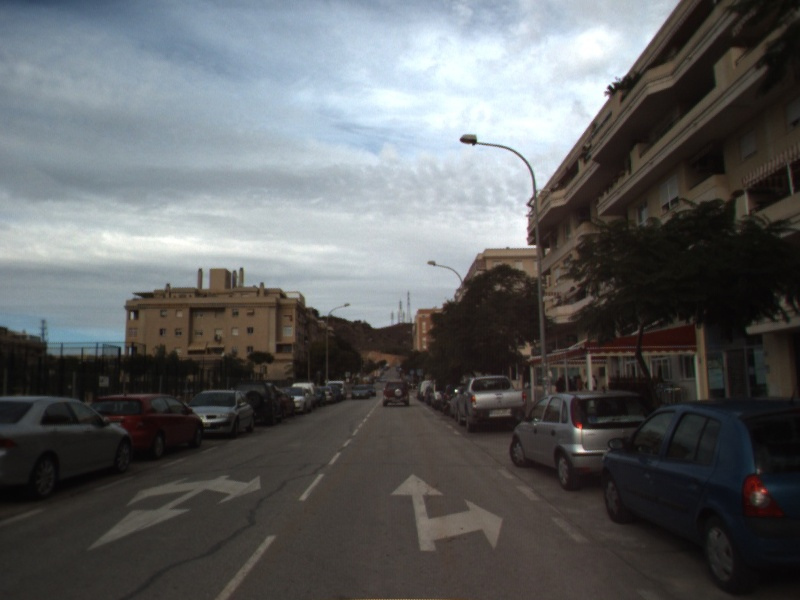STRAIGHT_RIGHT: (388, 472, 505, 553)
